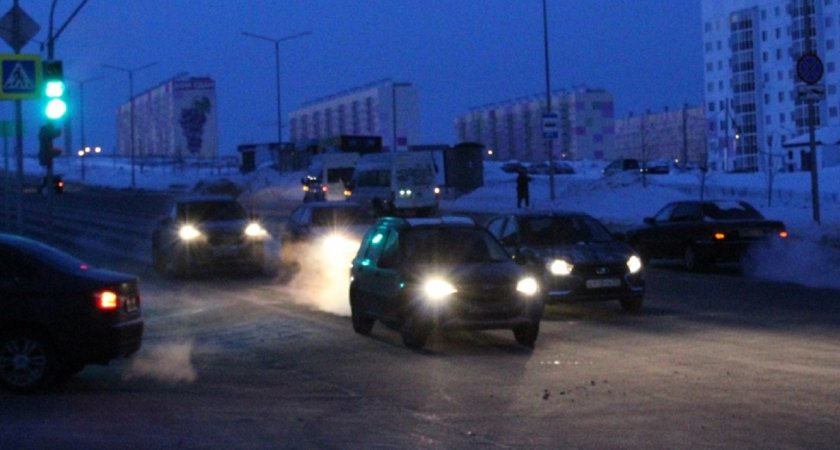tl: (40, 61, 66, 122)
